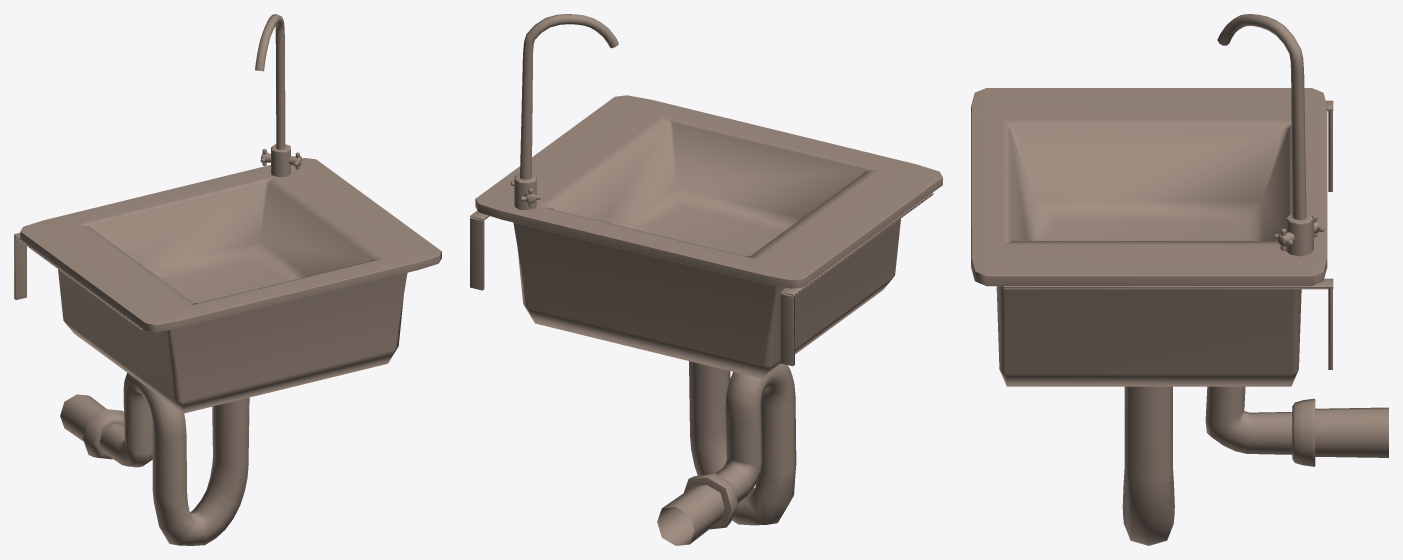
The model's file is basin.fbx.
3 renders of one model, left to right at view 1: azimuth 30°, elevation 25°; view 2: azimuth 150°, elevation 25°; view 3: azimuth 270°, elevation 25°, orthographic. The views are drawn at different scales.
Parts seen in each view (by area): view 1: Basin_Low; view 2: Basin_Low; view 3: Basin_Low.
Part boxes in pixels (x1=…): Basin_Low: x1=14, y1=14, x2=441, y2=545; Basin_Low: x1=470, y1=14, x2=942, y2=545; Basin_Low: x1=971, y1=14, x2=1388, y2=545.
Size of the model in its own units: 62.4 by 93.03 by 58.52.
